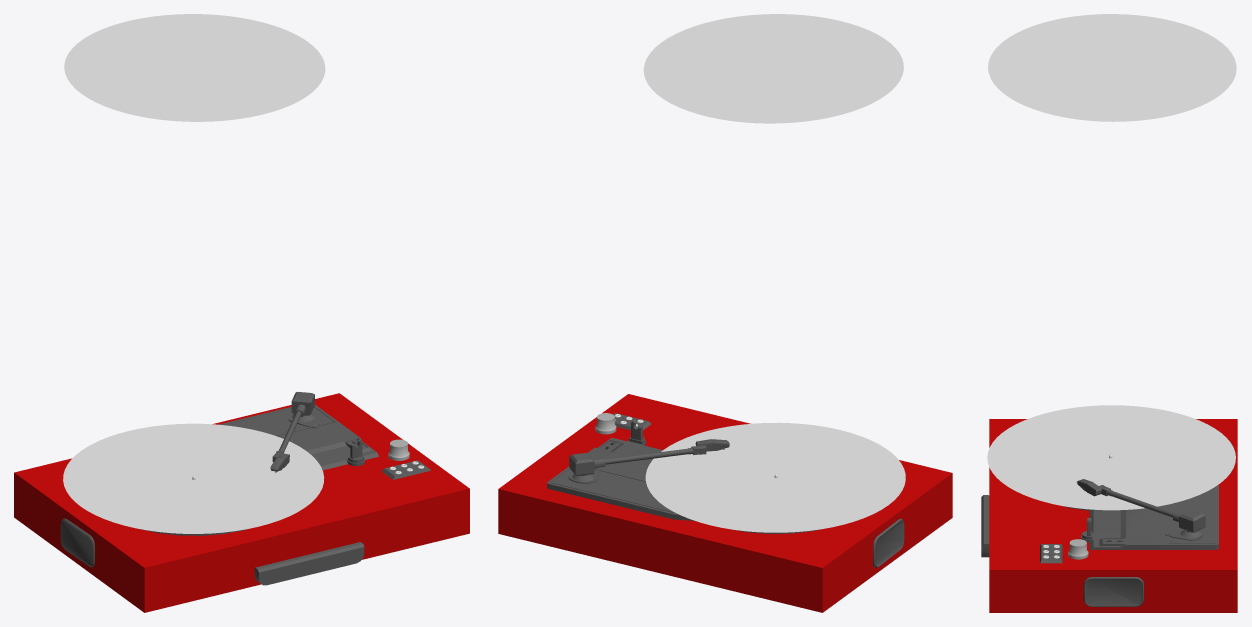
Rendered from recordplayer2.fbx.
The picture shows the model from 3 angles, left to right: view 1: azimuth 30°, elevation 25°; view 2: azimuth 150°, elevation 25°; view 3: azimuth 270°, elevation 25°; orthographic projection. The views are drawn at different scales.
Parts seen in each view (by area): view 1: Basis, Plaat, Plaat_1, Basis_naald, Basis_handvaten, Naald; view 2: Basis, Plaat_1, Plaat, Basis_naald, Naald, Basis_handvaten; view 3: Plaat_1, Basis, Plaat, Basis_naald, Basis_handvaten, Naald, Inputs, Volume.
Boxes of the visible parts, x1,y1,x2,y2 form: Basis: [14, 393, 469, 612]; Plaat: [63, 423, 324, 533]; Plaat_1: [64, 14, 325, 121]; Basis_naald: [219, 405, 378, 470]; Basis_handvaten: [60, 518, 364, 585]; Naald: [270, 391, 314, 472]; Basis: [498, 394, 952, 612]; Plaat_1: [643, 14, 903, 123]; Plaat: [645, 422, 905, 532]; Basis_naald: [547, 419, 694, 520]; Naald: [569, 439, 729, 475]; Basis_handvaten: [873, 518, 904, 567]; Plaat_1: [988, 14, 1236, 121]; Basis: [989, 419, 1237, 612]; Plaat: [987, 405, 1235, 510]; Basis_naald: [1081, 485, 1218, 549]; Basis_handvaten: [981, 495, 1143, 606]; Naald: [1077, 479, 1205, 532]; Inputs: [1040, 544, 1062, 563]; Volume: [1068, 539, 1088, 559].
Bounding box in the file's own units: 6.15 × 8.38 × 4.34.
